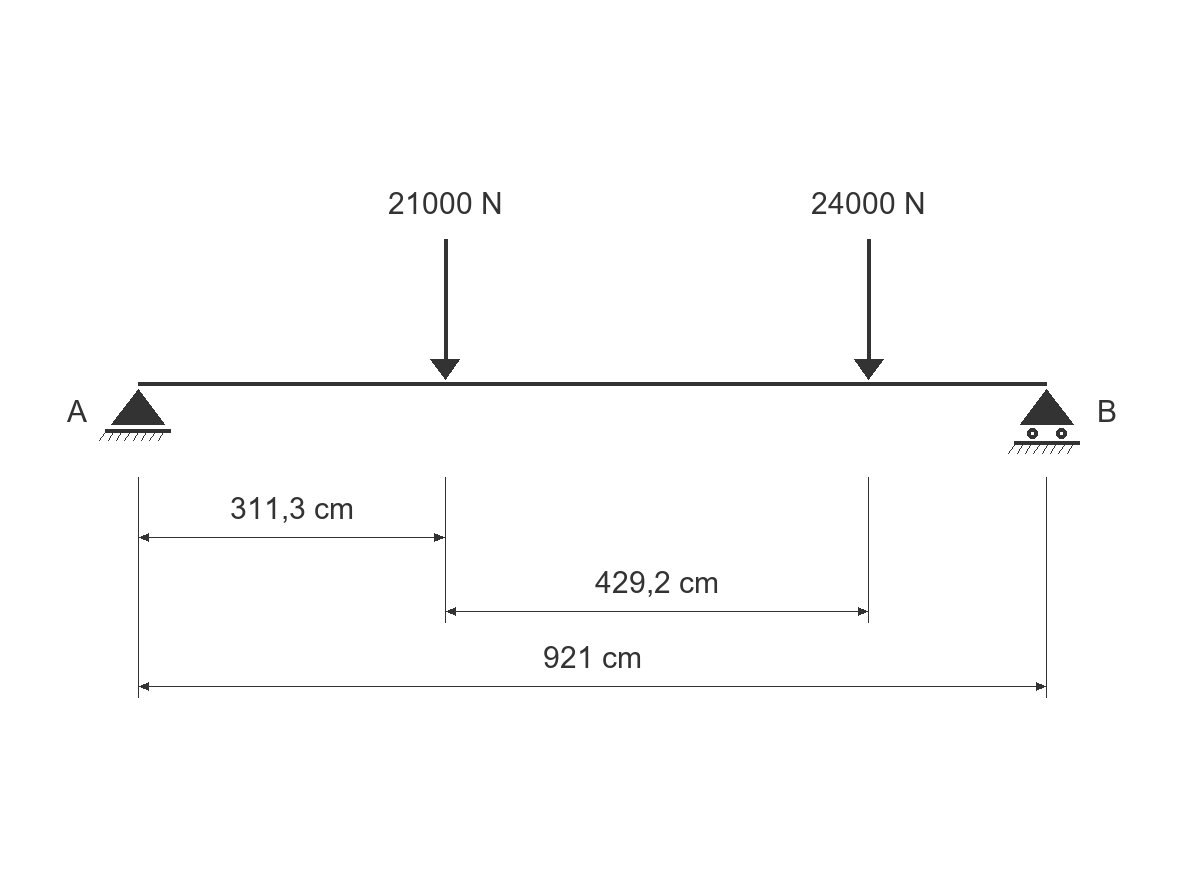pin_support: (99, 389, 171, 441)
point_load: (430, 239, 460, 380), (854, 239, 884, 380)
roller_support: (1008, 389, 1080, 454)
